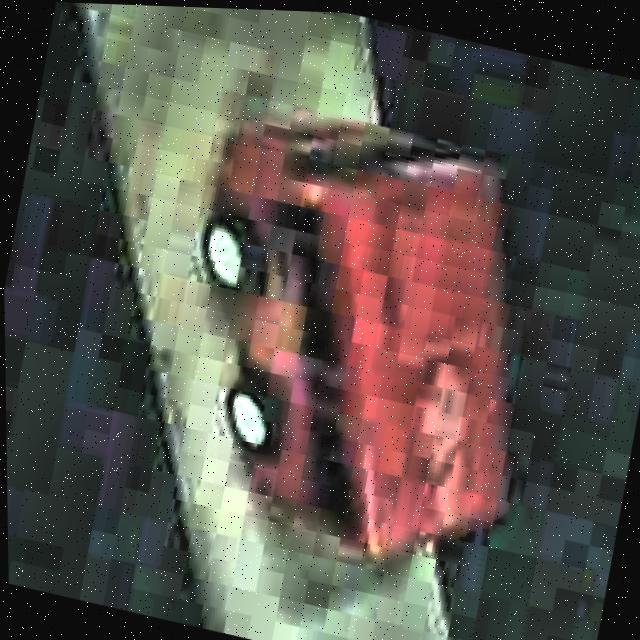bus: (139, 84, 579, 594)
